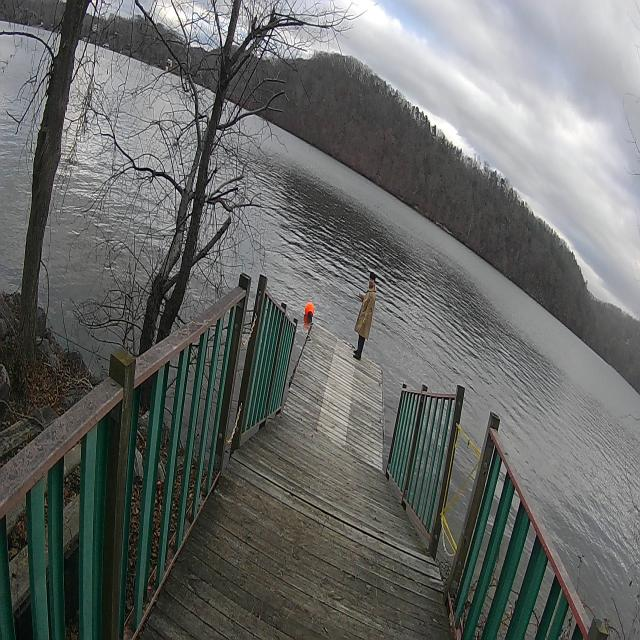Buoy: (302, 295, 316, 334)
